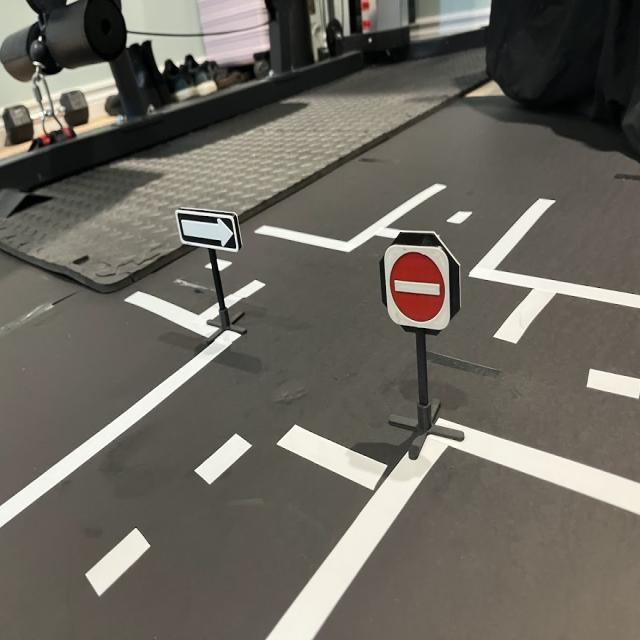sign_noentry: (385, 247, 454, 331)
sign_oneway_right: (177, 212, 242, 254)
